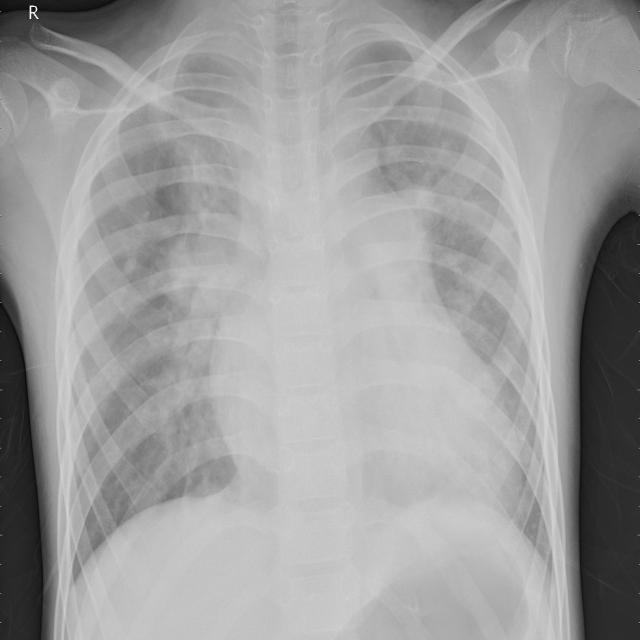high-pneumonia: (128, 137, 238, 428), (153, 35, 258, 158)
low-pneumonia: (401, 141, 500, 255)
